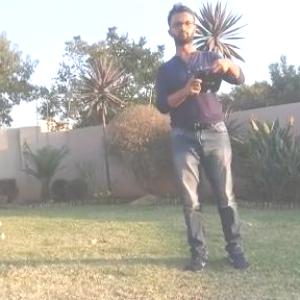follow: (150, 0, 254, 275)
